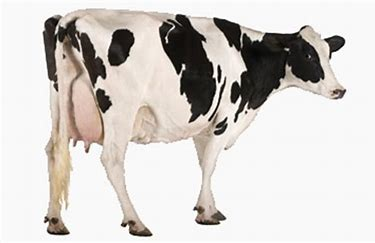waka: (20, 6, 345, 236)
